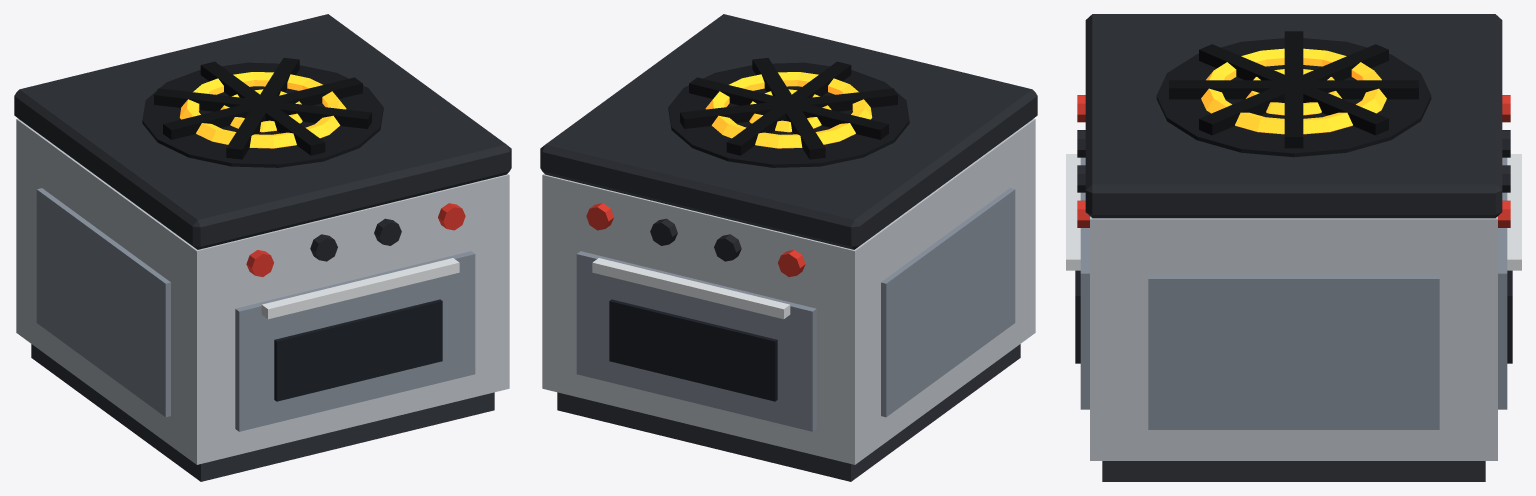
File: stove.glb
3 views of the same model, side by side, from view 1: azimuth 30°, elevation 25°; view 2: azimuth 150°, elevation 25°; view 3: azimuth 270°, elevation 25° (orthographic). The views are drawn at different scales.
Parts seen in each view (by area): view 1: stove, burner; view 2: stove, burner; view 3: stove, burner.
Part boxes in pixels (bbox=[...]): stove: bbox=[14, 14, 511, 481]; burner: bbox=[179, 72, 346, 148]; stove: bbox=[540, 14, 1037, 481]; burner: bbox=[705, 72, 872, 148]; stove: bbox=[1066, 14, 1521, 481]; burner: bbox=[1201, 48, 1386, 134].
Bounding box in the file's own units: 1.01 × 0.8395 × 1.09.
